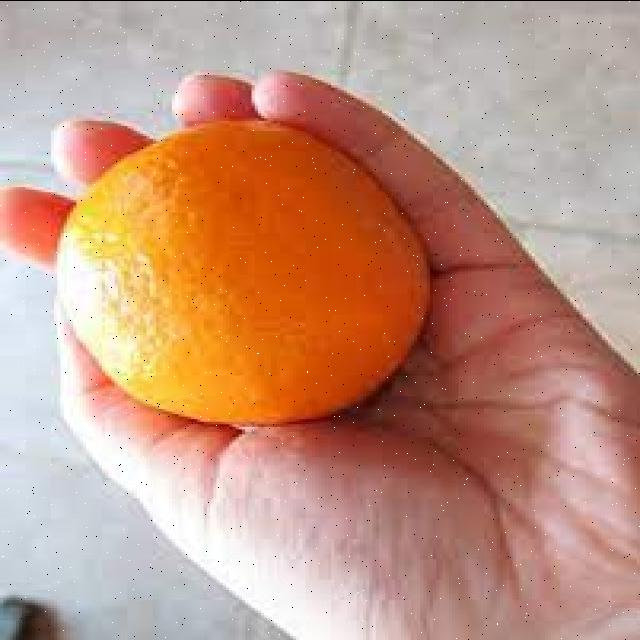Orange: (54, 118, 432, 428)
